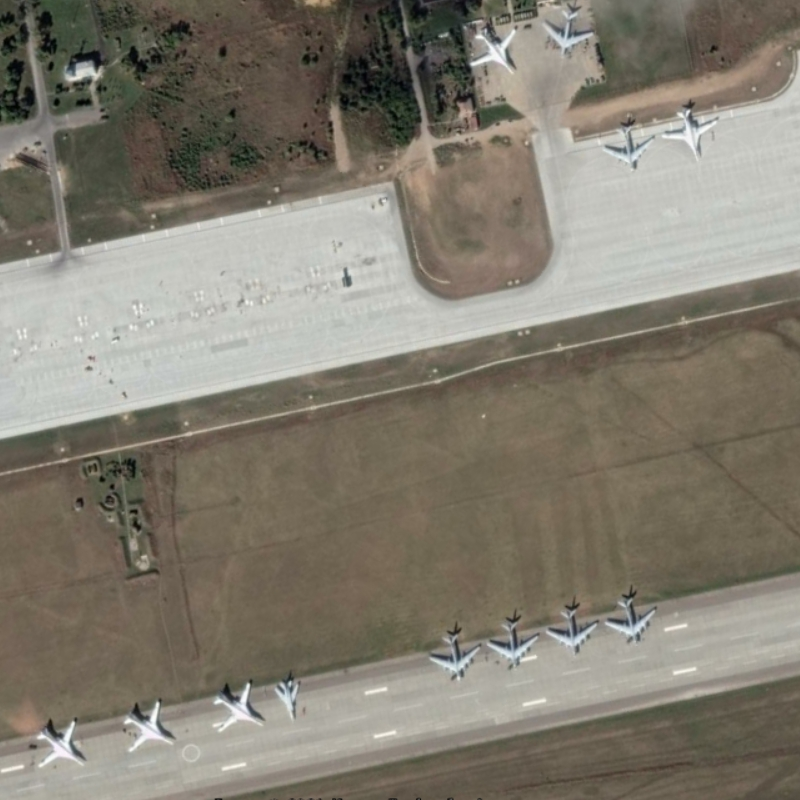A12: (271, 675, 304, 724)
A17: (539, 7, 598, 63), (484, 618, 541, 672), (543, 605, 601, 658), (600, 123, 659, 175), (426, 631, 482, 684), (603, 595, 659, 647)
A6: (660, 104, 722, 163), (119, 697, 178, 756), (33, 715, 89, 771), (465, 23, 521, 77), (208, 680, 265, 732)
